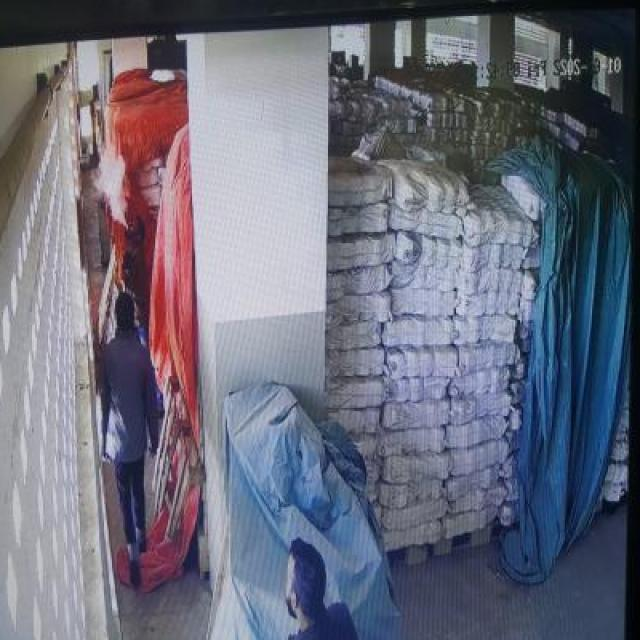fire: (94, 142, 128, 232)
